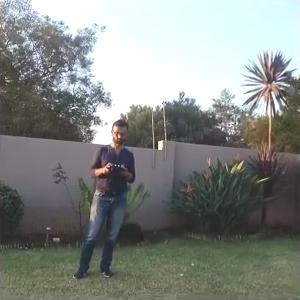follow: (68, 114, 138, 280)
